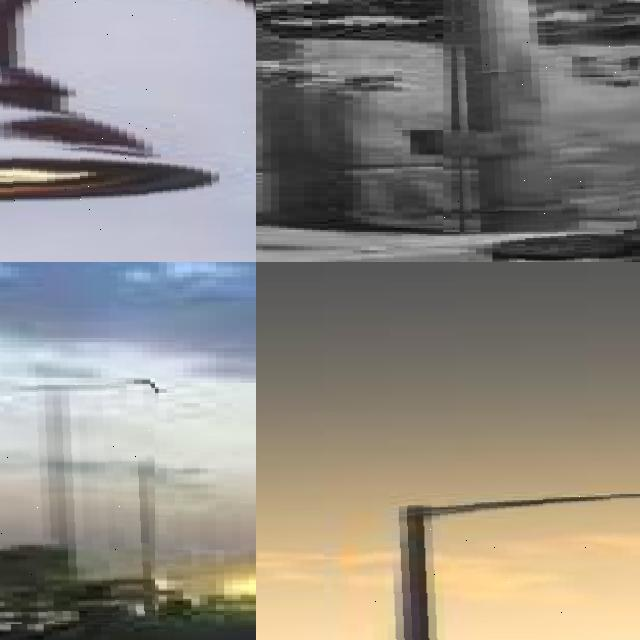street light: (0, 0, 256, 262), (443, 0, 640, 232), (373, 492, 640, 640), (0, 378, 155, 626)
